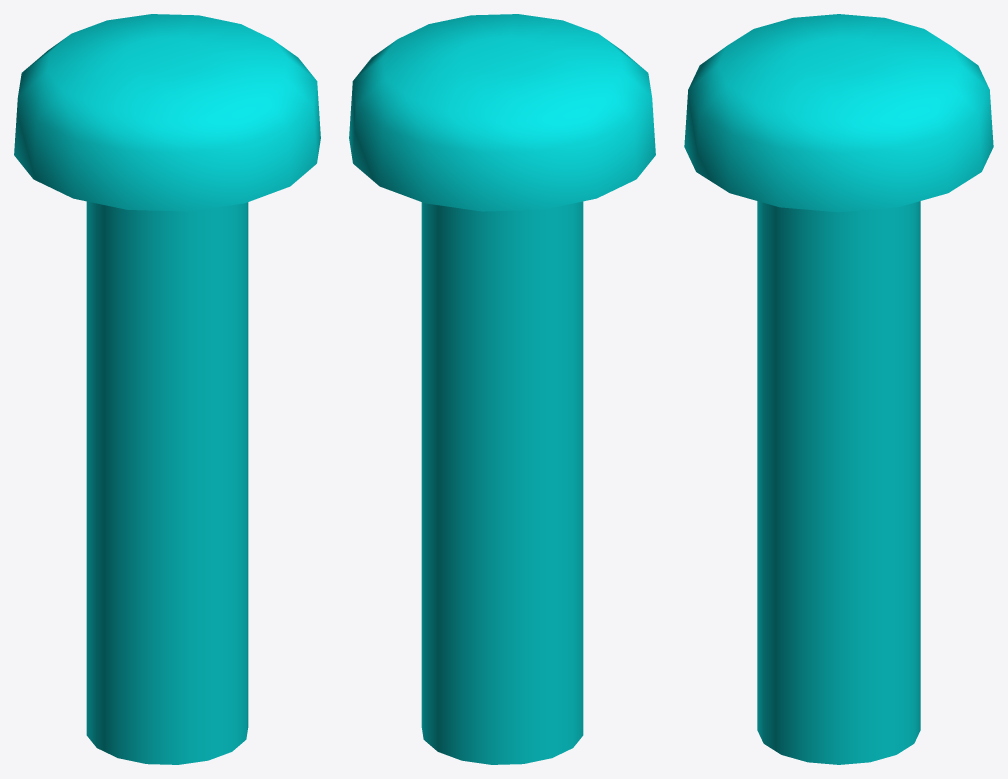
File: komono5.fbx
3 renders of one model, left to right at view 1: azimuth 30°, elevation 25°; view 2: azimuth 150°, elevation 25°; view 3: azimuth 270°, elevation 25°, orthographic.
Parts seen in each view (by area): view 1: Cylinder.006; view 2: Cylinder.006; view 3: Cylinder.006.
Boxes of the visible parts, left/top/right/bottom form: Cylinder.006: left=14, top=14, right=320, bottom=764; Cylinder.006: left=349, top=14, right=655, bottom=764; Cylinder.006: left=684, top=14, right=993, bottom=764.
Bounding box in the file's own units: 8.2 × 19.72 × 8.2.
